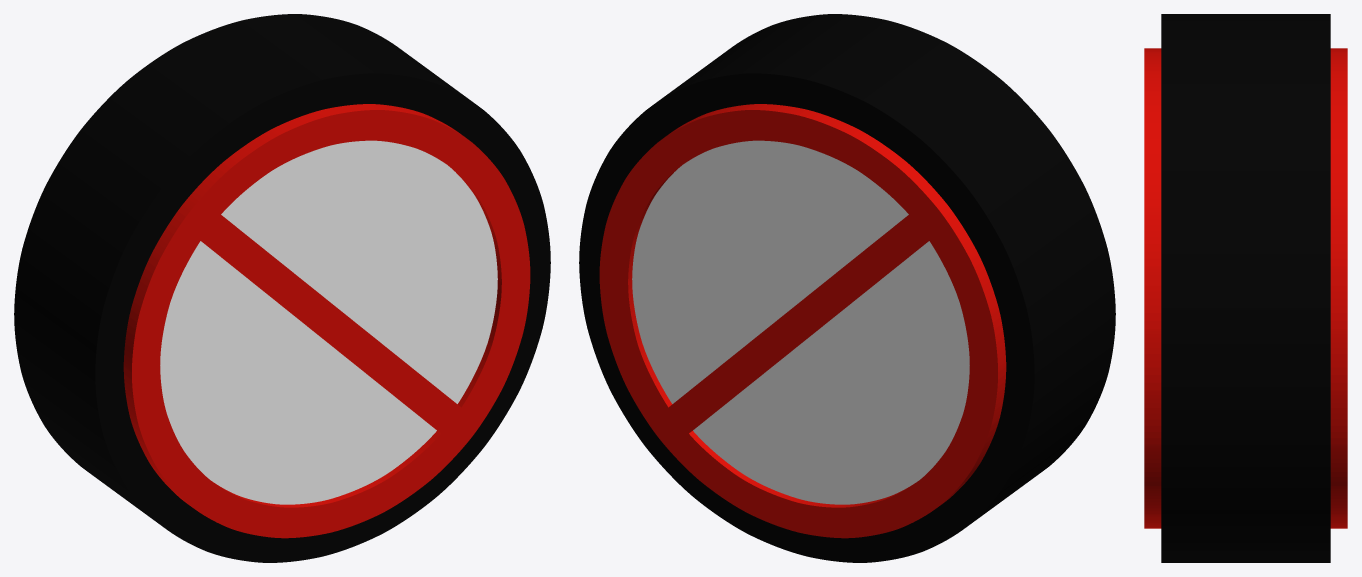
3 views of the same model, side by side, from view 1: azimuth 30°, elevation 25°; view 2: azimuth 150°, elevation 25°; view 3: azimuth 270°, elevation 25° (orthographic). The views are drawn at different scales.
Visible parts, largest first — view 1: U+1F6AB_layer00_obj00, U+1F6AB_layer01_obj00, U+1F6AB_layer02_obj00; view 2: U+1F6AB_layer00_obj00, U+1F6AB_layer01_obj00, U+1F6AB_layer02_obj00; view 3: U+1F6AB_layer00_obj00, U+1F6AB_layer02_obj00.
Boxes of the visible parts, bbox=[...] form: U+1F6AB_layer00_obj00: bbox=[14, 14, 550, 562]; U+1F6AB_layer01_obj00: bbox=[160, 140, 497, 504]; U+1F6AB_layer02_obj00: bbox=[123, 104, 530, 538]; U+1F6AB_layer00_obj00: bbox=[579, 14, 1115, 562]; U+1F6AB_layer01_obj00: bbox=[632, 140, 969, 504]; U+1F6AB_layer02_obj00: bbox=[599, 104, 1006, 538]; U+1F6AB_layer00_obj00: bbox=[1161, 14, 1330, 562]; U+1F6AB_layer02_obj00: bbox=[1144, 48, 1347, 528].
Bounding box in the file's own units: 0.6491 × 0.649 × 0.24.
